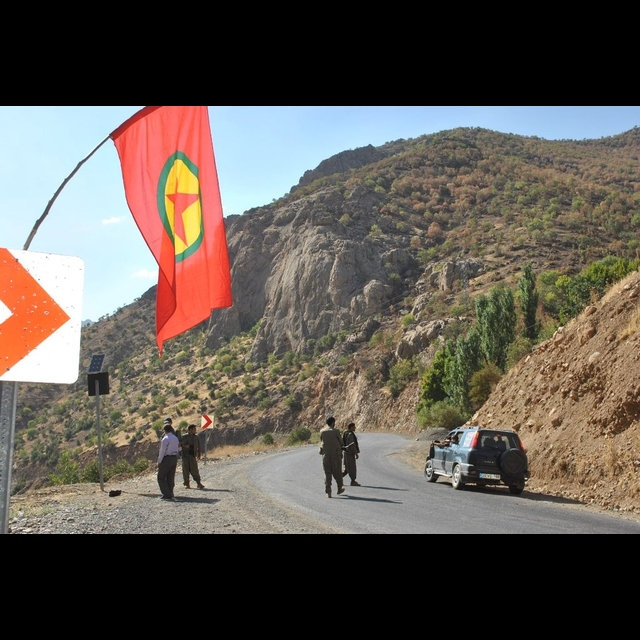PKK: (155, 149, 212, 262)
